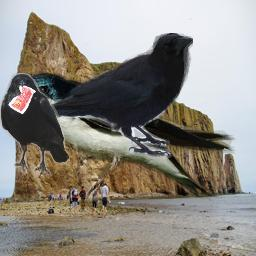Crow: (22, 33, 193, 159), (0, 73, 70, 176)
Swallow: (13, 71, 241, 206)
